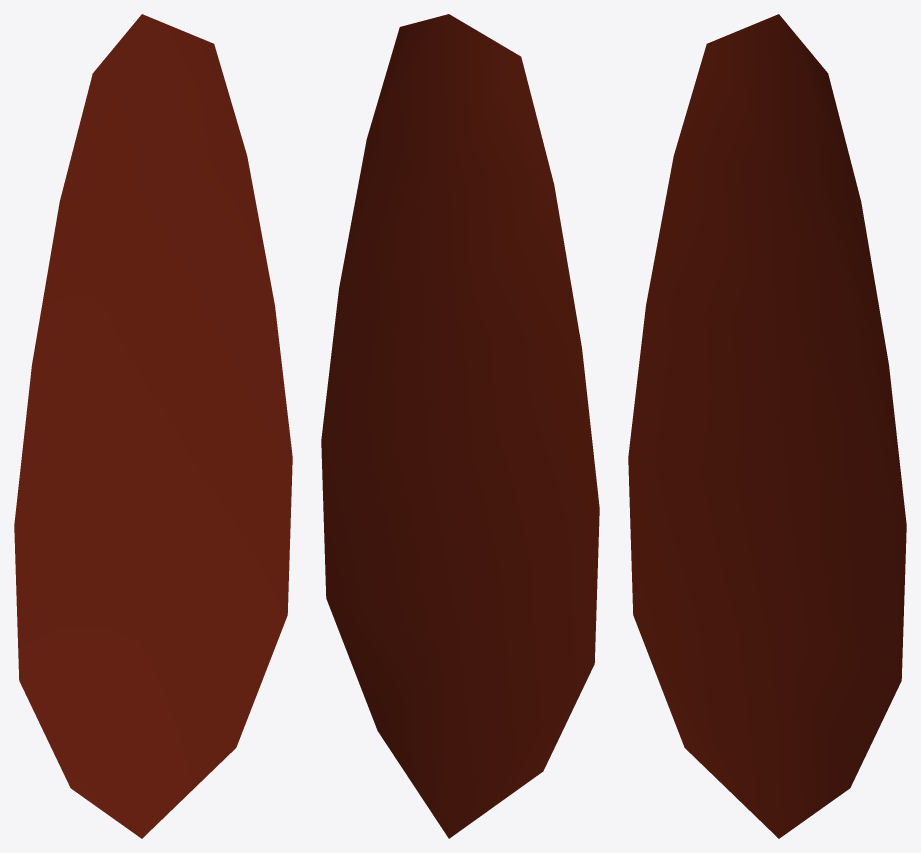
File: pheasant_feather_flight_tertiary_056.obj
3 renders of one model, left to right at view 1: azimuth 30°, elevation 25°; view 2: azimuth 150°, elevation 25°; view 3: azimuth 330°, elevation 25°, orthographic.
Parts seen in each view (by area): view 1: feather_flight_tertiary_056; view 2: feather_flight_tertiary_056; view 3: feather_flight_tertiary_056.
Boxes of the visible parts, x1,y1,x2,y2 form: feather_flight_tertiary_056: (14,14,292,838); feather_flight_tertiary_056: (321,14,599,838); feather_flight_tertiary_056: (628,14,906,838).
Size of the model in its own units: 0.00887 by 0.0251 by 0.000634.
